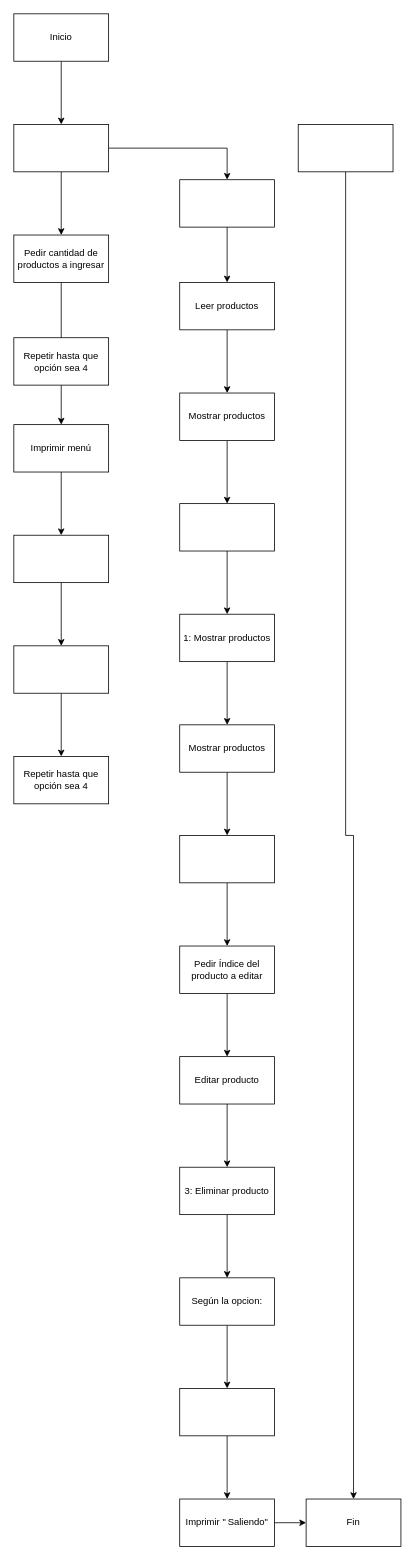
Some shapes in this 415 by 1560 pixel diagram are drawn without their labels. Each missing label, with the box of its shape:
2: Editar producto: (179, 835, 275, 883)
4: Salir: (179, 1388, 275, 1436)
Imprimir bienvenidos a TuTienda: (13, 124, 109, 172)
Imprimir saliendo: (297, 124, 393, 172)
Leer cantidad de productos a ingresar: (179, 179, 275, 227)
Leer opción: (13, 534, 109, 583)
Según la opción: (179, 503, 275, 551)
Según la opción:: (13, 645, 109, 693)
